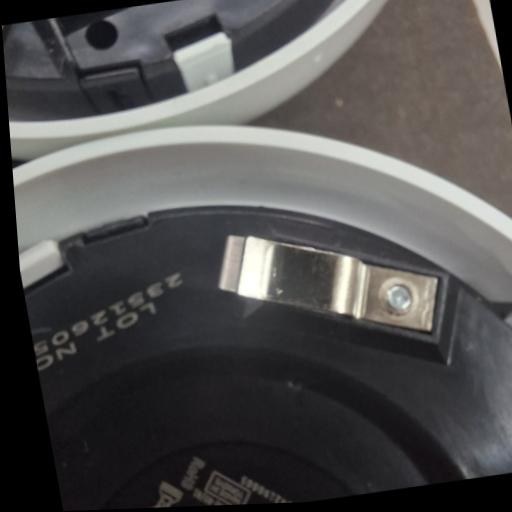yayli: (207, 205, 449, 362)
